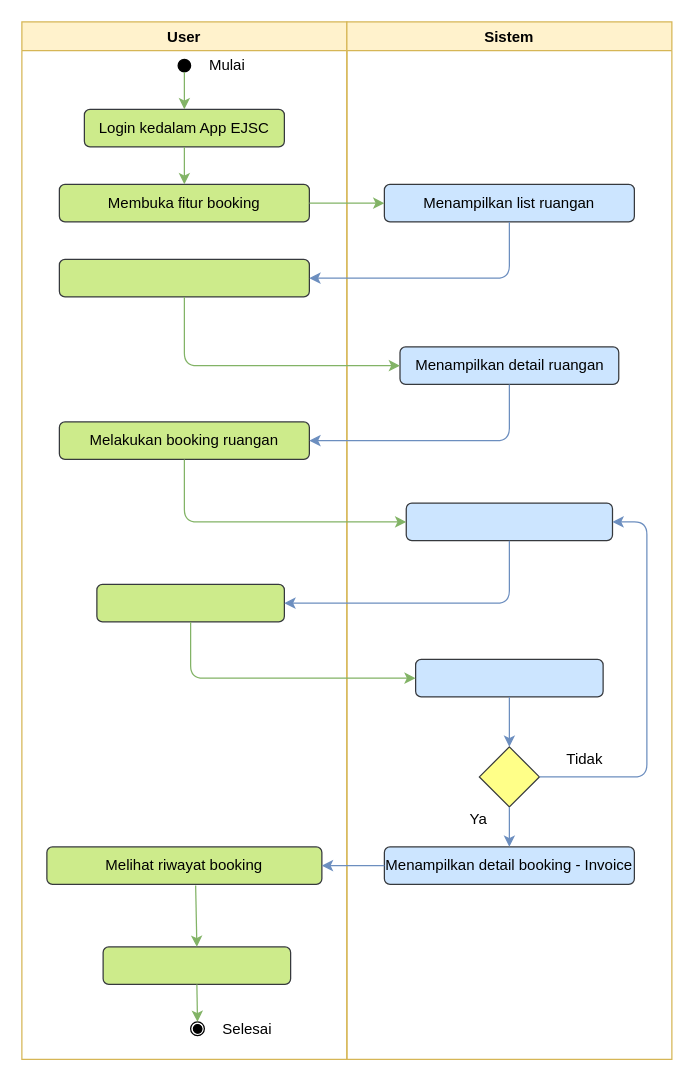
This 694x1081 diagram has some shape labels left out. The centre of each missing label's shape, as x and y in pixels:
"Kirim data booking" goes at point 508,677.
"Logout" goes at point 196,965.
"Memilih ruangan" goes at point 183,277.
"Menampilkan form booking" goes at point 508,521.
"Mengisi form booking" goes at point 190,602.
